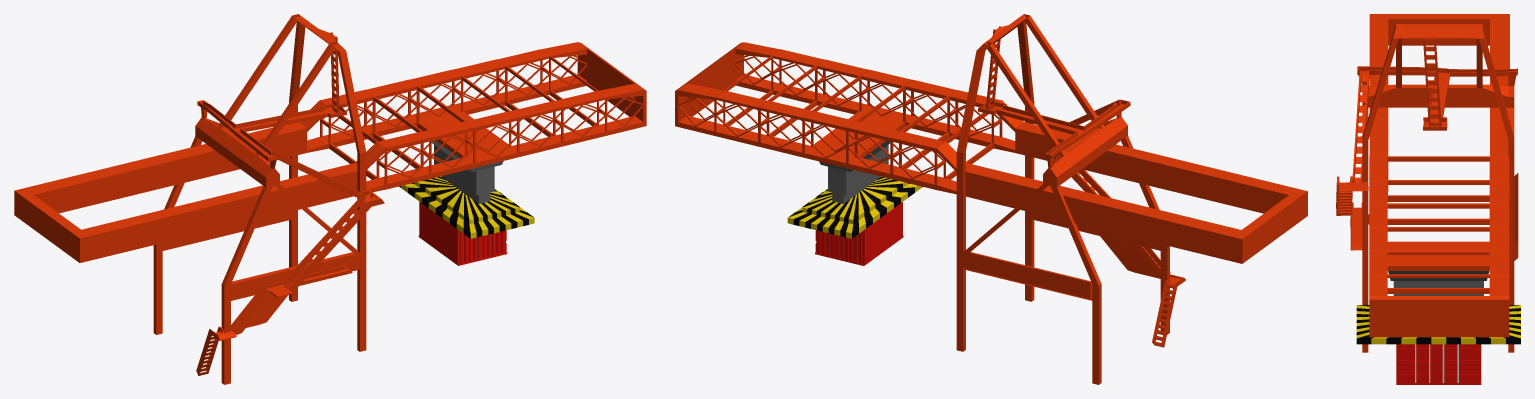
File: sts-crane.zfix-v14.lod0.glb
The picture shows the model from 3 angles, left to right: view 1: azimuth 30°, elevation 25°; view 2: azimuth 150°, elevation 25°; view 3: azimuth 270°, elevation 25°; orthographic projection. The views are drawn at different scales.
Visible parts, largest first — view 1: Cube.001_Material.001_0, Cube.001_Material.004_0, Cube.001_Material.007_0; view 2: Cube.001_Material.001_0, Cube.001_Material.004_0, Cube.001_Material.007_0; view 3: Cube.001_Material.001_0, Cube.001_Material.004_0, Cube.001_Material.007_0.
Part boxes in pixels (x1=…): Cube.001_Material.001_0: x1=14, y1=14, x2=646, y2=384; Cube.001_Material.004_0: x1=399, y1=140, x2=534, y2=238; Cube.001_Material.007_0: x1=418, y1=201, x2=507, y2=265; Cube.001_Material.001_0: x1=675, y1=14, x2=1307, y2=384; Cube.001_Material.004_0: x1=787, y1=140, x2=922, y2=238; Cube.001_Material.007_0: x1=815, y1=202, x2=903, y2=265; Cube.001_Material.001_0: x1=1336, y1=14, x2=1518, y2=352; Cube.001_Material.004_0: x1=1356, y1=271, x2=1520, y2=382; Cube.001_Material.007_0: x1=1396, y1=344, x2=1481, y2=384.
Size of the model in its own units: 95.29 by 48 by 25.16.
